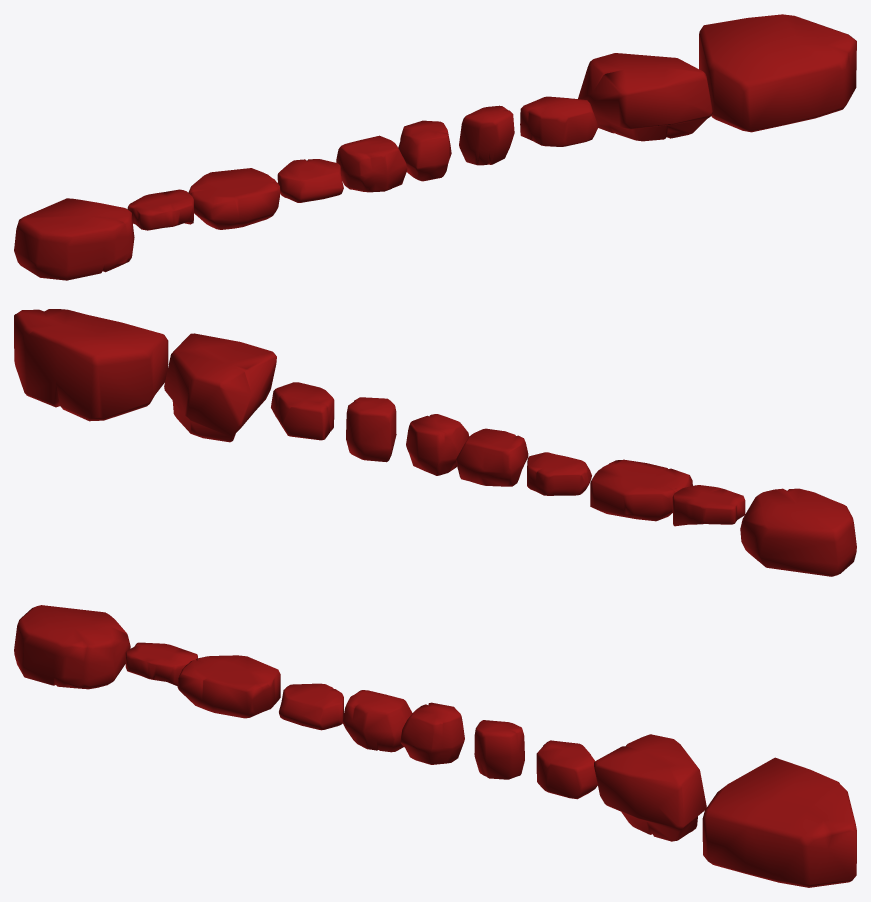
File: Rocks.FBX
3 renders of one model, top to bottom at view 1: azimuth 30°, elevation 25°; view 2: azimuth 150°, elevation 25°; view 3: azimuth 330°, elevation 25°, orthographic. The views are drawn at different scales.
Parts seen in each view (by area): view 1: Rock_Big_03, Rock_Big_02, Rock_Big_01, Rock_Medium_01, Rock_small_06, Rock_small_03, Rock_small_05, Rock_small_04, Rock_small_02, Rock_small_01; view 2: Rock_Big_03, Rock_Big_02, Rock_Big_01, Rock_Medium_01, Rock_small_03, Rock_small_06, Rock_small_05, Rock_small_04, Rock_small_01, Rock_small_02; view 3: Rock_Big_03, Rock_Big_02, Rock_Big_01, Rock_Medium_01, Rock_small_03, Rock_small_04, Rock_small_06, Rock_small_05, Rock_small_02, Rock_small_01.
Part boxes in pixels (x1,y1,x2,y2): Rock_Big_03: (699, 14, 856, 132); Rock_Big_02: (578, 53, 712, 141); Rock_Big_01: (14, 198, 134, 280); Rock_Medium_01: (188, 168, 279, 229); Rock_small_06: (520, 96, 597, 146); Rock_small_03: (336, 135, 407, 192); Rock_small_05: (459, 105, 514, 165); Rock_small_04: (398, 120, 451, 181); Rock_small_02: (277, 159, 343, 202); Rock_small_01: (127, 189, 193, 230); Rock_Big_03: (14, 309, 168, 421); Rock_Big_02: (164, 333, 276, 442); Rock_Big_01: (740, 488, 856, 576); Rock_Medium_01: (590, 459, 692, 521); Rock_small_03: (455, 428, 528, 486); Rock_small_06: (271, 382, 334, 440); Rock_small_05: (346, 397, 396, 462); Rock_small_04: (406, 414, 469, 475); Rock_small_01: (672, 485, 745, 526); Rock_small_02: (527, 452, 591, 495); Rock_Big_03: (702, 757, 856, 887); Rock_Big_02: (594, 734, 706, 841); Rock_Big_01: (14, 605, 130, 689); Rock_Medium_01: (177, 655, 280, 718); Rock_small_03: (342, 690, 412, 752); Rock_small_04: (400, 702, 464, 764); Rock_small_06: (536, 740, 597, 799); Rock_small_05: (474, 720, 524, 779); Rock_small_02: (279, 683, 343, 730); Rock_small_01: (125, 642, 197, 686).
Size of the model in its own units: 433 by 34.64 by 53.56.
